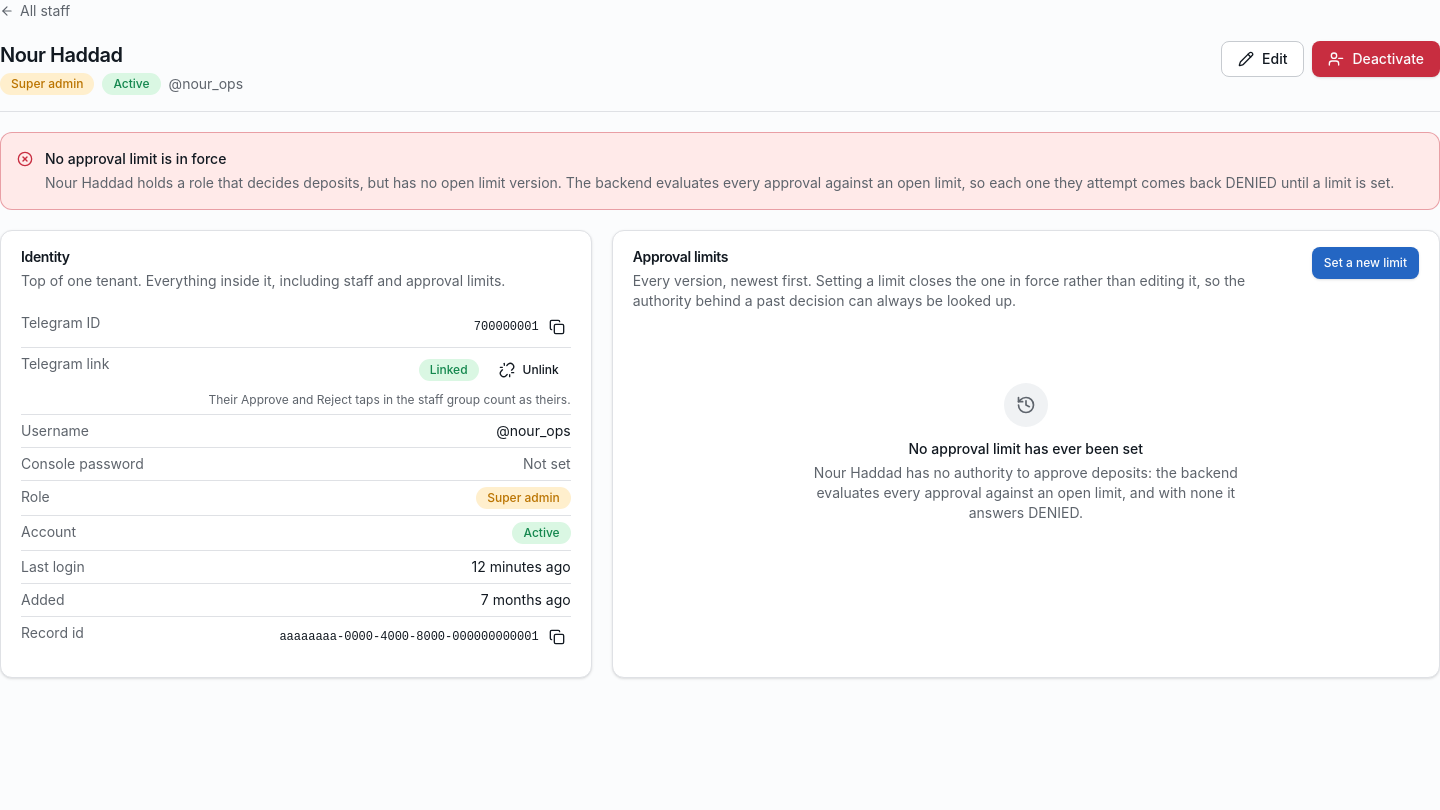
Test case: StaffDetailPage › surfaces the self-modification refusal in the API’s own words
This screenshot has width=1440, height=810.
Step 1. Click the button "Deactivate" → x=1376, y=59, box [1312,41,1439,77]
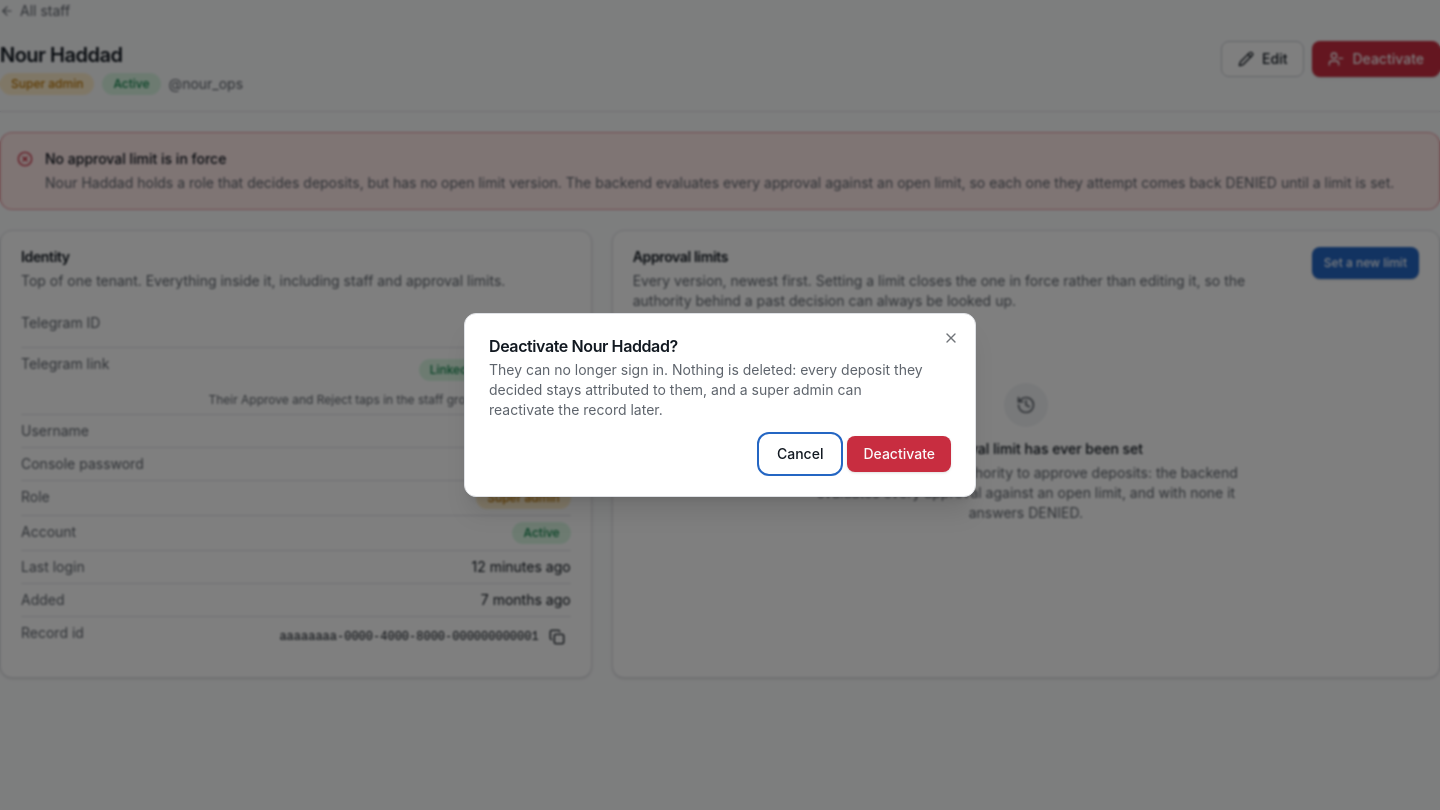
Step 2. Click the button "Deactivate" → x=899, y=454, box [848,436,951,472]
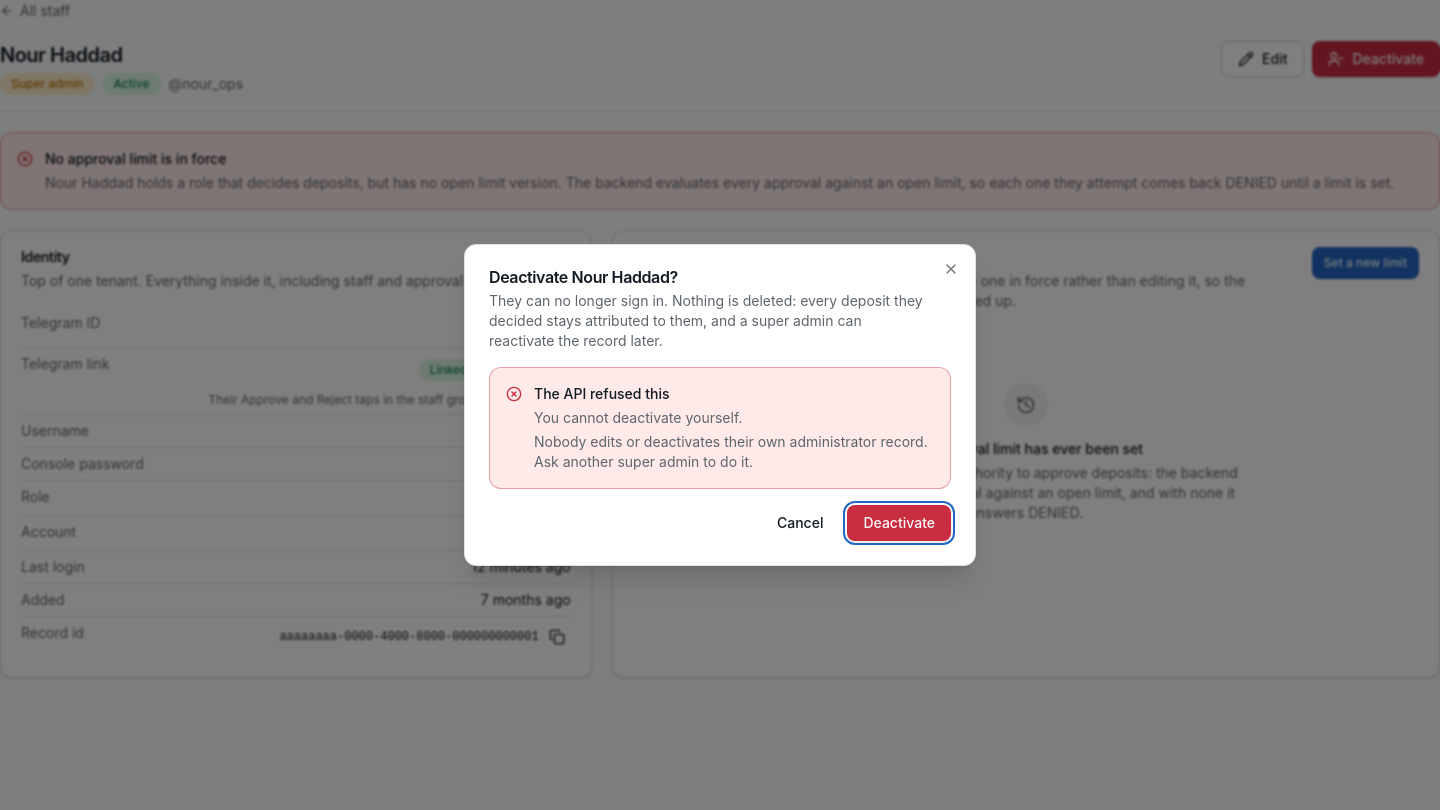
Check: the text "You cannot deactivate yourself." is shown, box [534,409,742,426]
Check: the text "Nobody edits or deactivates their own administrator record" is shown, box [534,433,928,470]
